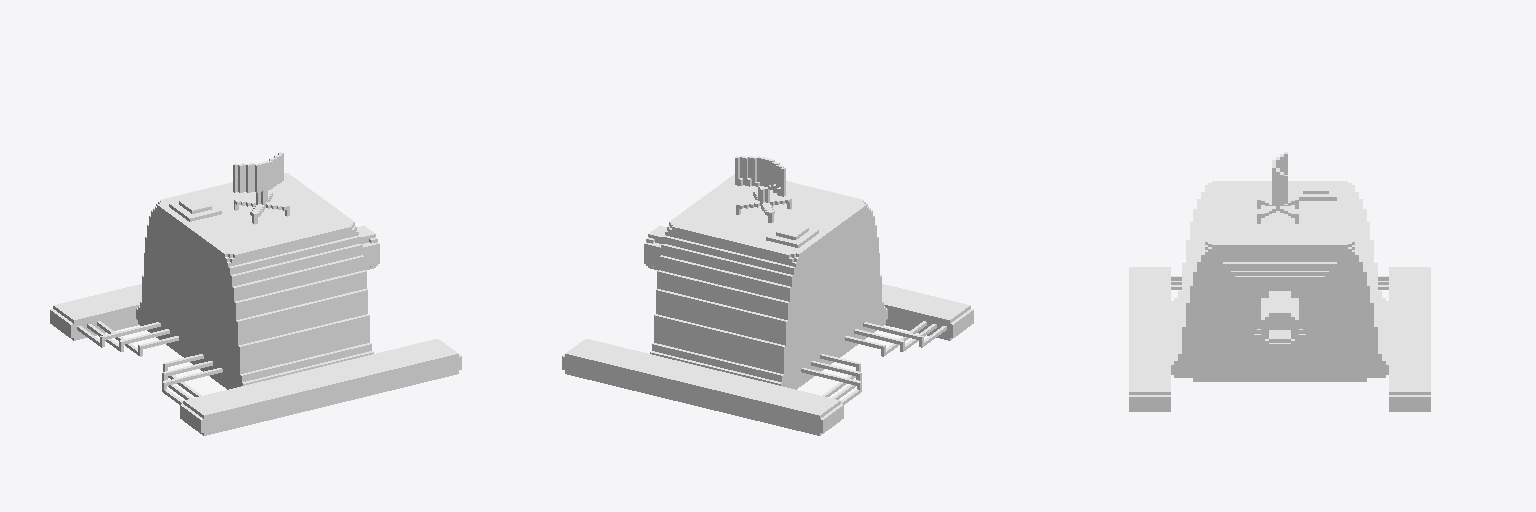
File: tytyzhshch.obj
The picture shows the model from 3 angles: view 1: azimuth 30°, elevation 25°; view 2: azimuth 150°, elevation 25°; view 3: azimuth 270°, elevation 25°; orthographic projection.
Parts seen in each view (by area): view 1: object 1; view 2: object 1; view 3: object 1.
Part boxes in pixels (left/top/right/bottom): object 1: left=50, top=152, right=461, bottom=435; object 1: left=562, top=156, right=973, bottom=435; object 1: left=1129, top=152, right=1430, bottom=411.
Bounding box in the file's own units: 8 × 5.5 × 8.